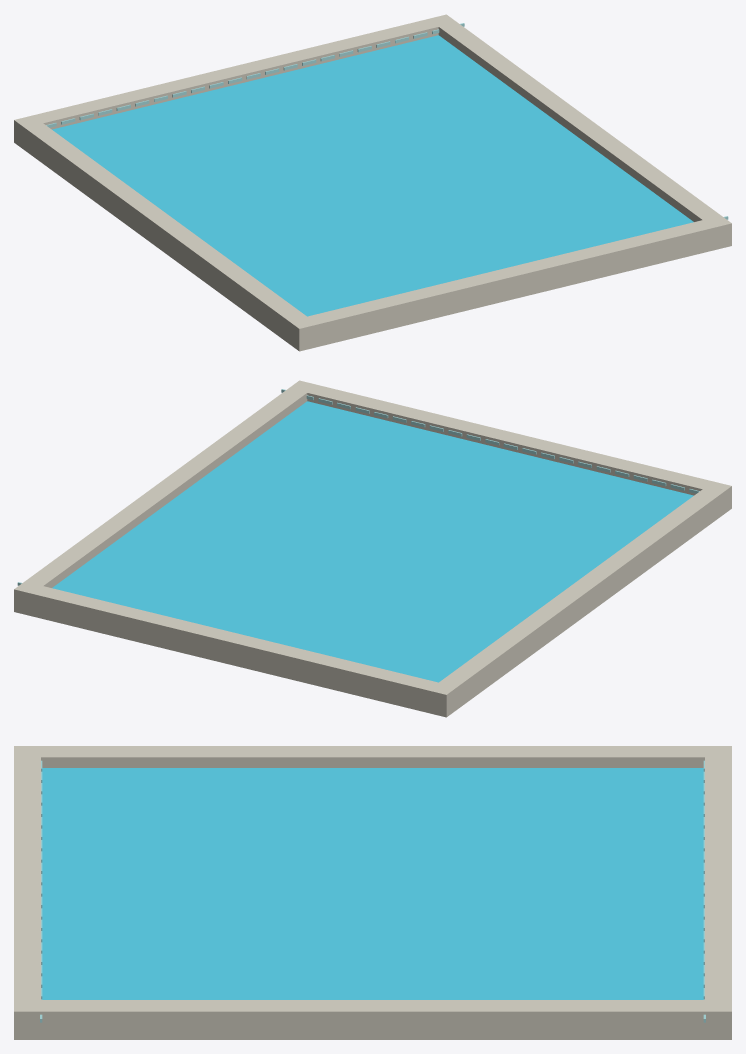
The model's file is waterpark-and-pool-operations-waterpark-and-pool-opera-46779842.glb.
3 views of the same model, one above another, from view 1: azimuth 30°, elevation 25°; view 2: azimuth 150°, elevation 25°; view 3: azimuth 270°, elevation 25° (orthographic). The views are drawn at different scales.
Visible parts, largest first — view 1: waterpark-and-pool-operations-rectangular-leisure-pool; view 2: waterpark-and-pool-operations-rectangular-leisure-pool; view 3: waterpark-and-pool-operations-rectangular-leisure-pool.
Part boxes in pixels (<box>): waterpark-and-pool-operations-rectangular-leisure-pool: <box>14,14,731,351</box>; waterpark-and-pool-operations-rectangular-leisure-pool: <box>14,380,731,717</box>; waterpark-and-pool-operations-rectangular-leisure-pool: <box>14,746,731,1039</box>.
Bounding box in the file's own units: 7.11 × 0.3496 × 8.
